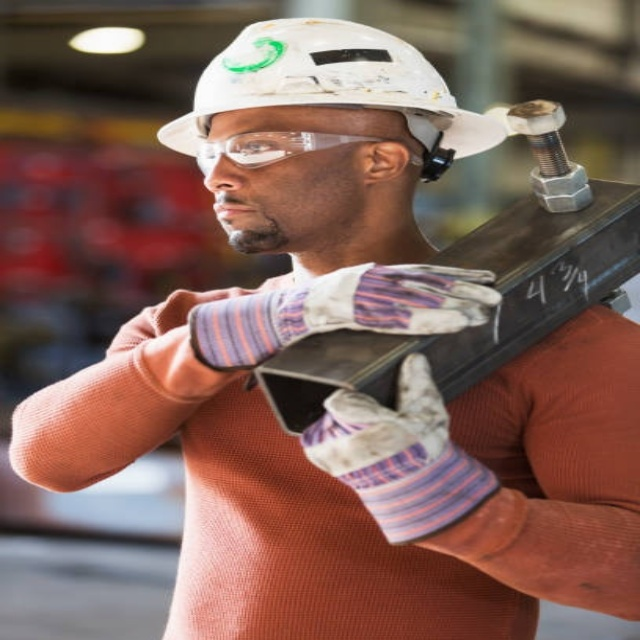Gafas: (193, 129, 405, 175)
Guantes: (291, 352, 500, 543), (193, 261, 505, 371)
Sin_mascara: (209, 191, 284, 246)
